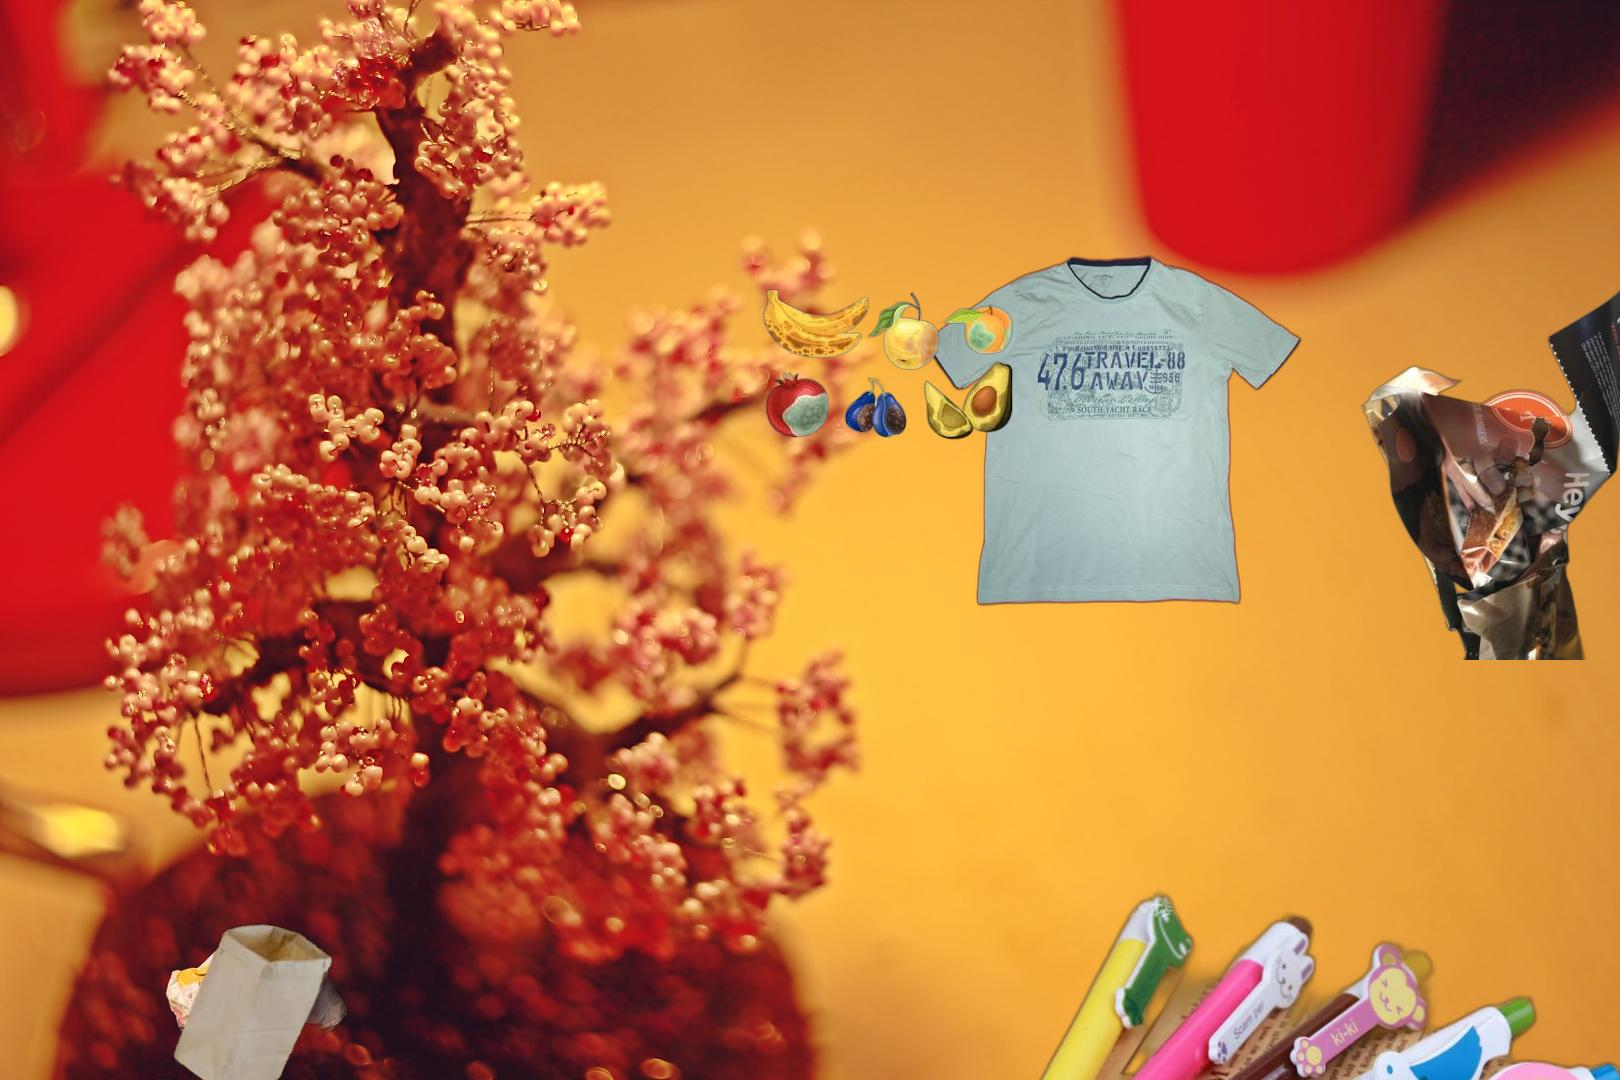biological: (762, 287, 1016, 442)
clothes: (921, 251, 1304, 609)
paper: (1358, 278, 1620, 661)
paper-bag: (163, 918, 351, 1080)
penholder: (952, 886, 1620, 1080)
